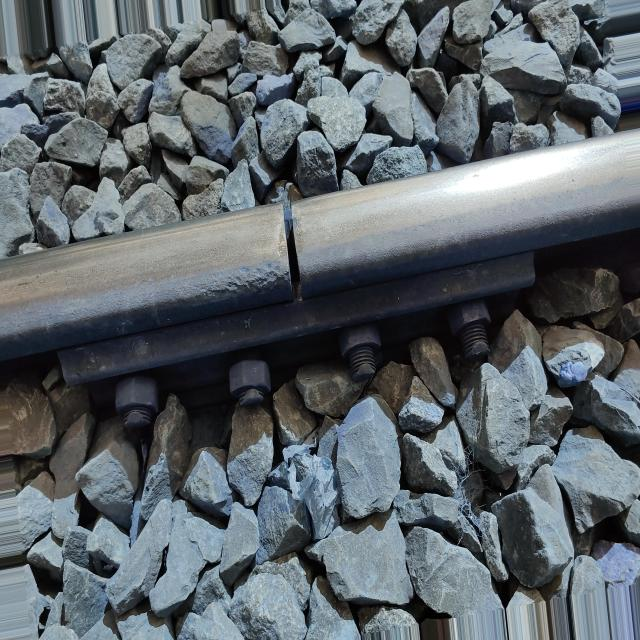crack: (256, 184, 340, 329)
